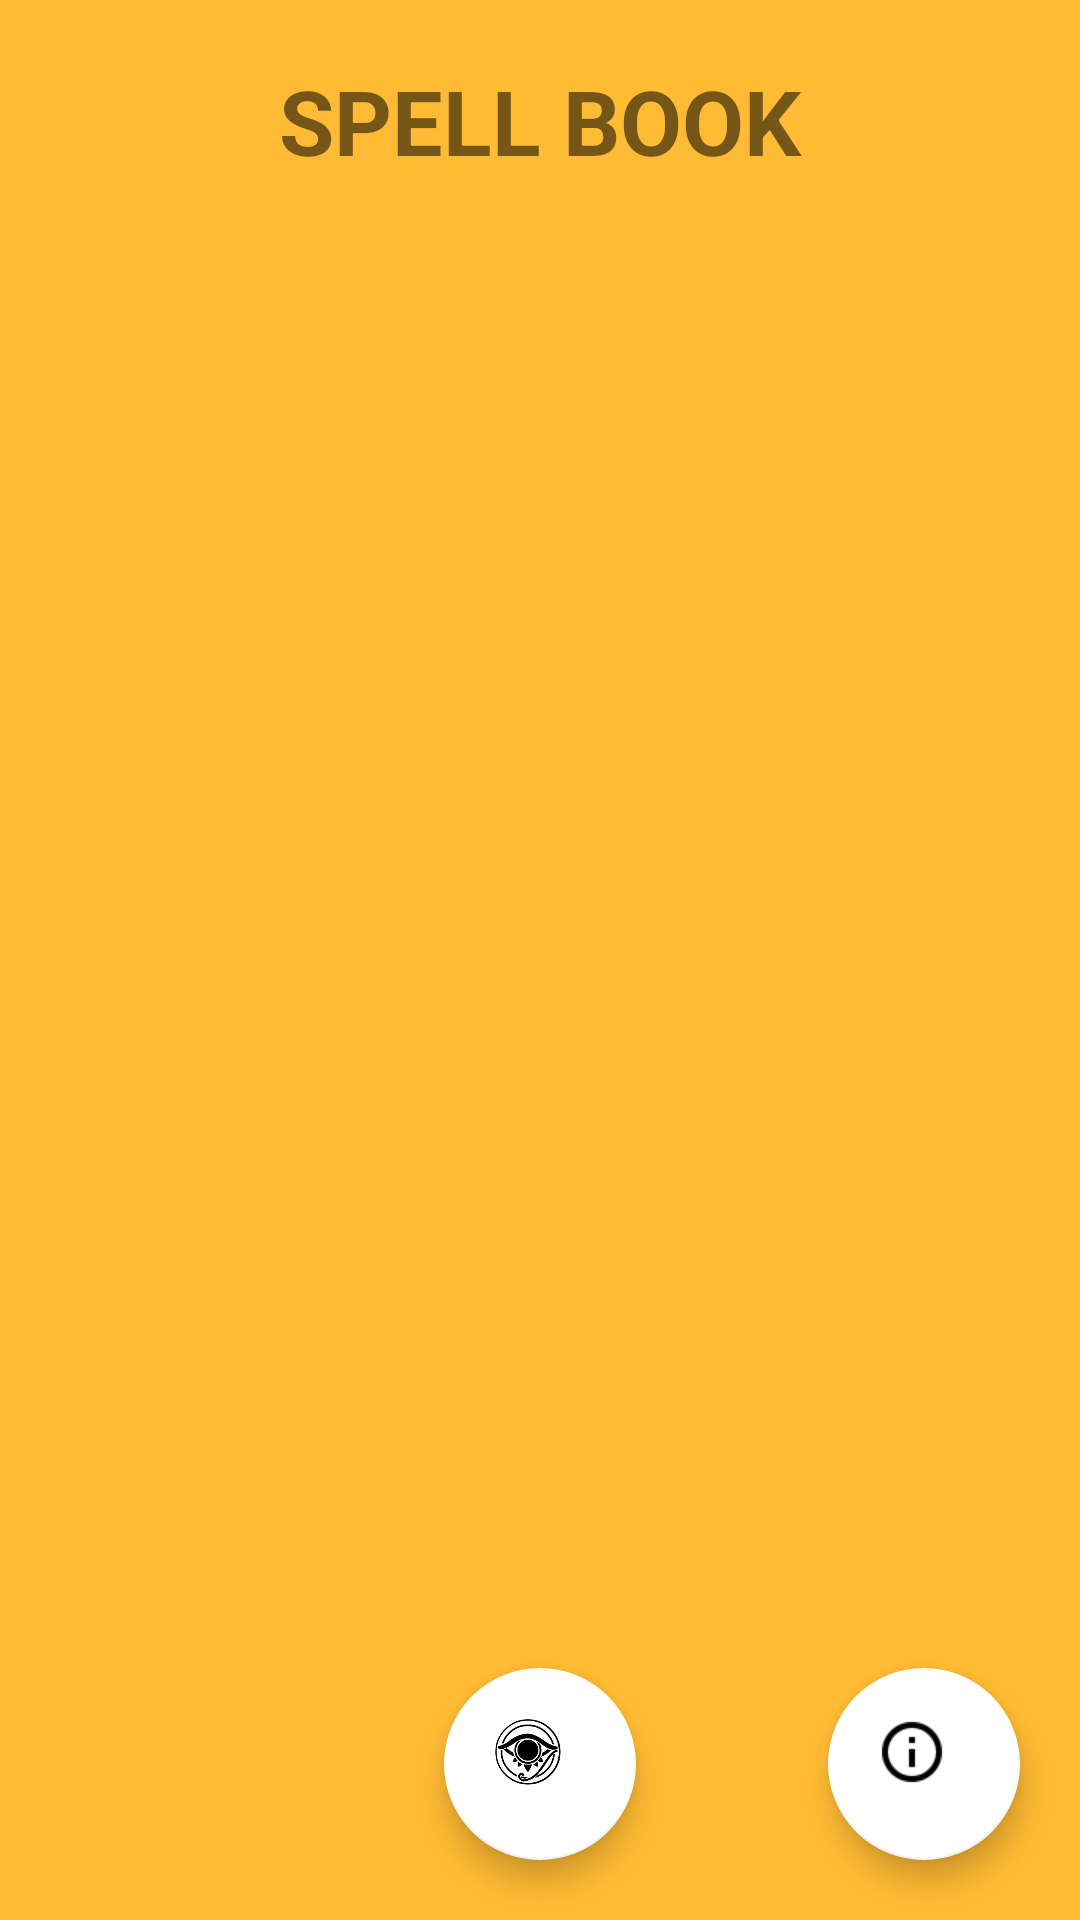

Screen size 1080×1920. Icon name, then its box in pixels as (x1, y1, x2, y2):
eye: (444, 1668, 636, 1860)
information: (828, 1668, 1020, 1860)
